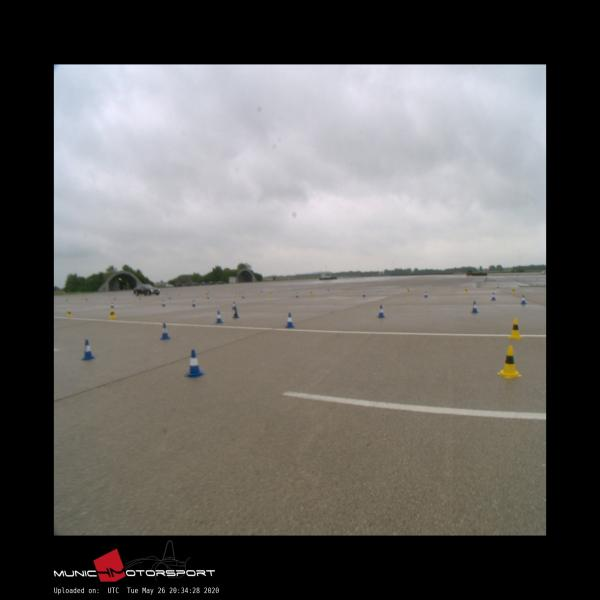blue_cone: (184, 350, 205, 377), (81, 339, 94, 359), (160, 323, 170, 340), (286, 313, 295, 327), (214, 311, 223, 323), (378, 304, 385, 316), (472, 302, 478, 312), (233, 308, 239, 318), (520, 295, 526, 304), (491, 292, 496, 301), (232, 301, 237, 310), (424, 290, 428, 298)
yellow_cone: (497, 345, 521, 377), (508, 318, 522, 338), (109, 308, 116, 319), (67, 309, 72, 317)
